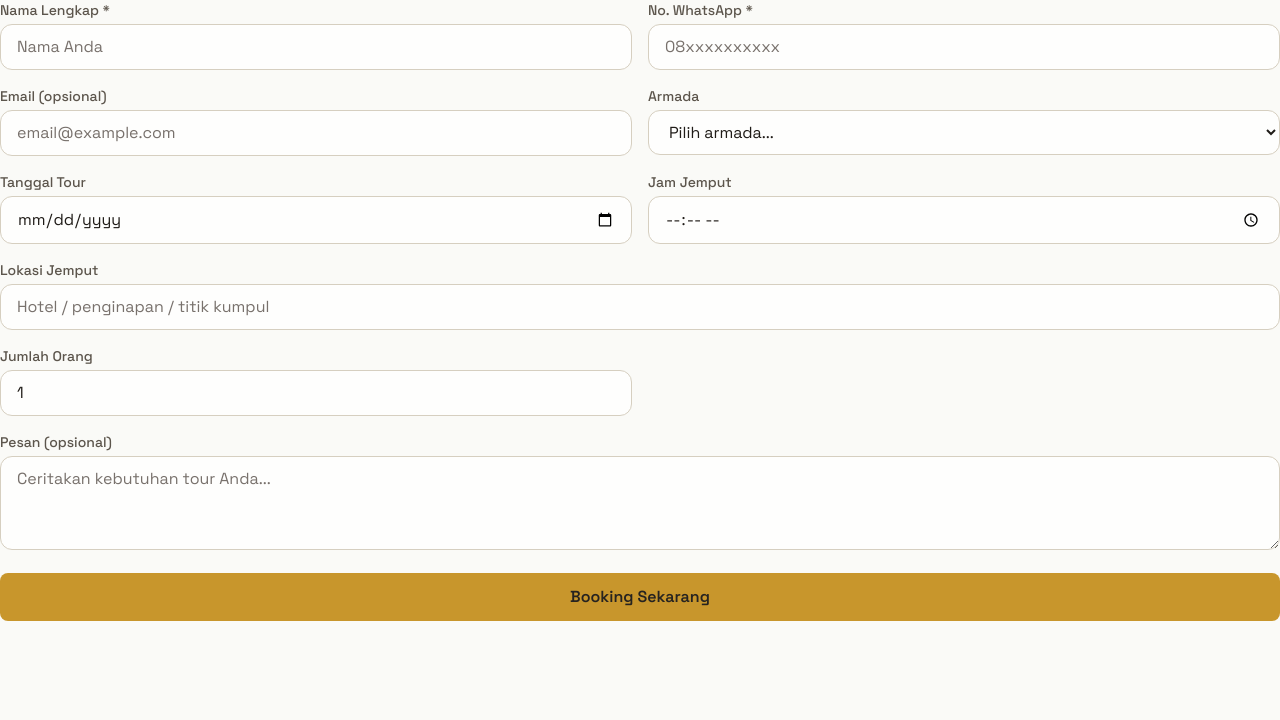
BookingForm (frontend) › submit sukses → menampilkan kode booking + tombol WA
This screenshot has width=1280, height=720.
Type "Budi" into the field with placeholder "Nama Anda". click: {"x": 316, "y": 47}
box: [0,24,632,70]
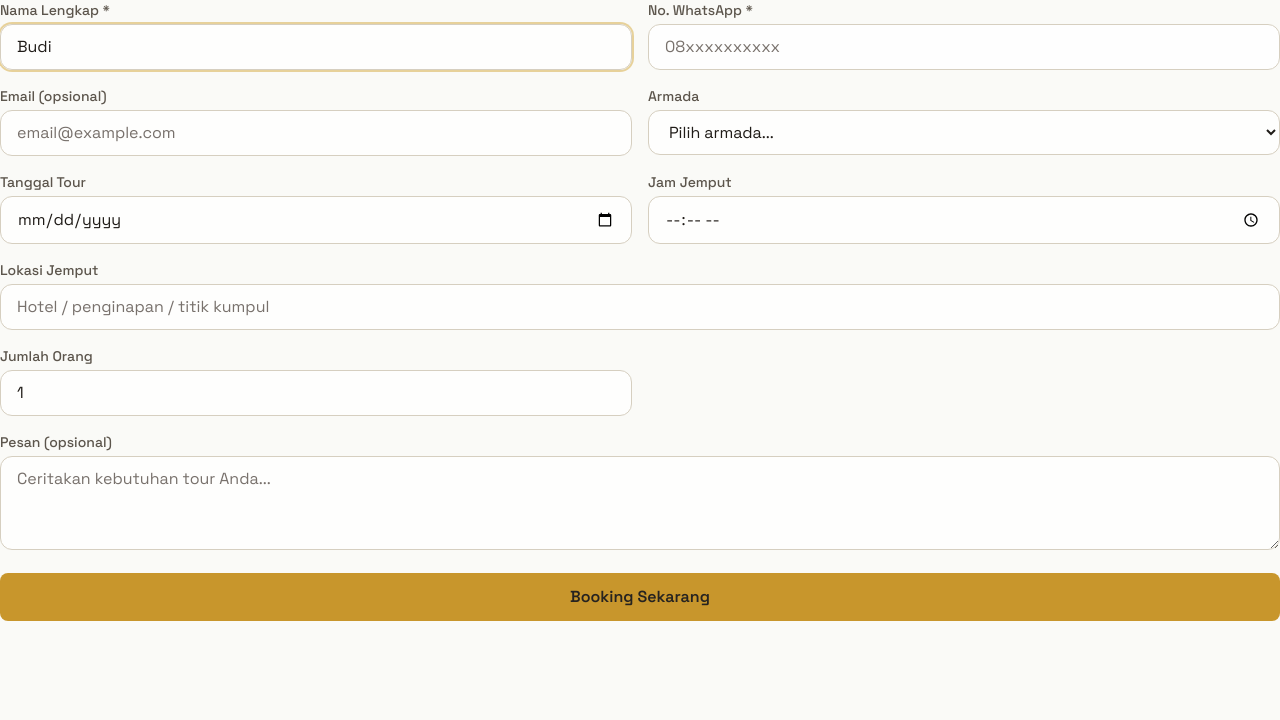
Type "08123456789" into the field with placeholder "08xxxxxxxxxx". click: {"x": 964, "y": 47}
box: [648,24,1279,70]
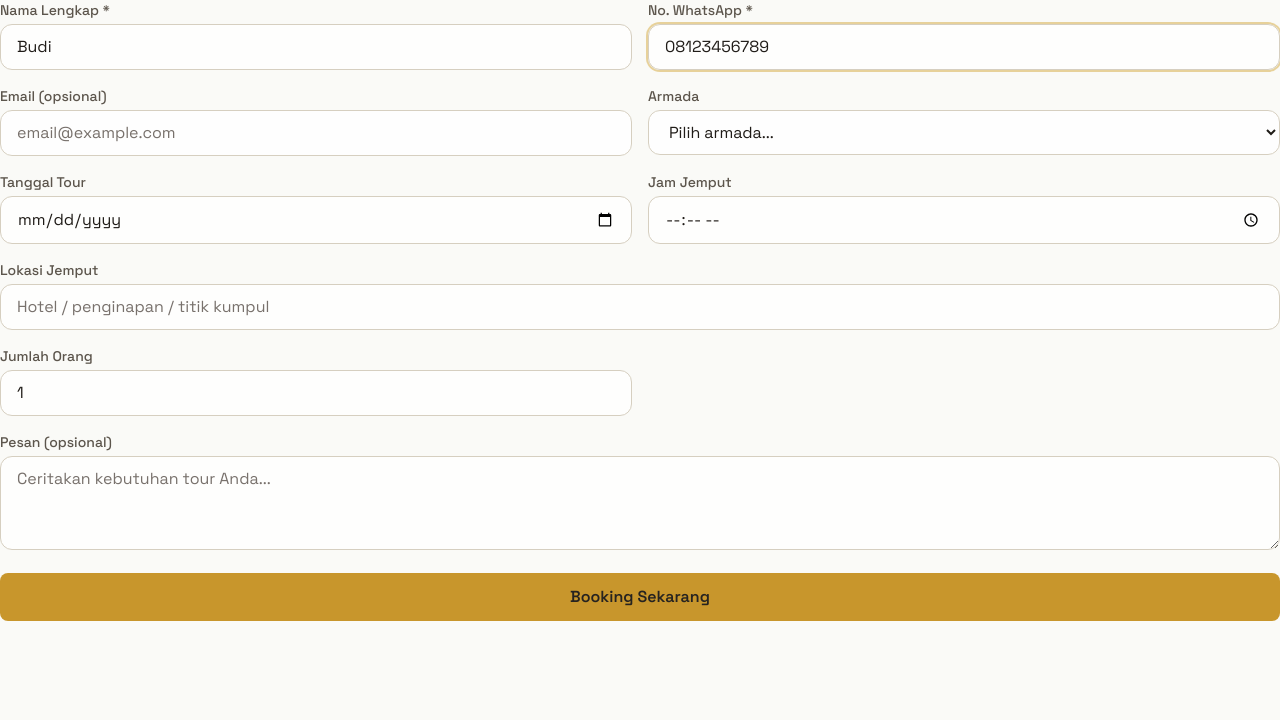
Click the button "Booking Sekarang". click: {"x": 640, "y": 597}
box: [0,573,1279,621]
(page scrolled)
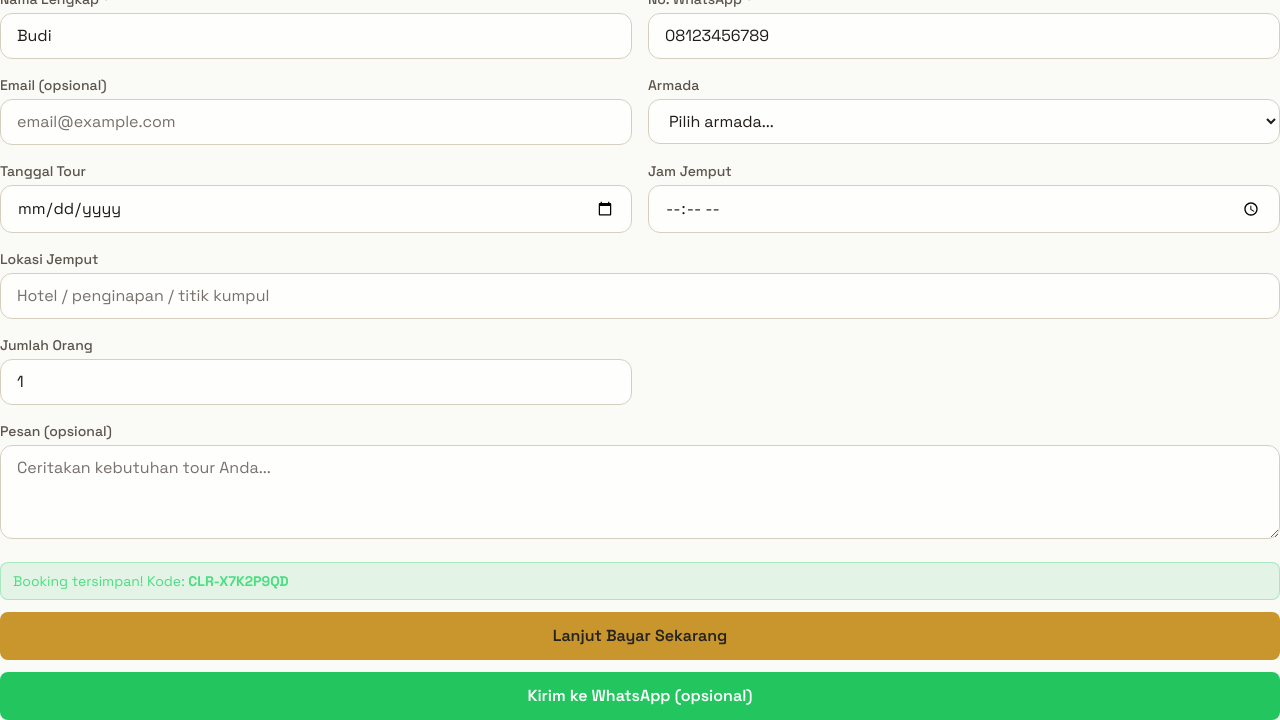
Expected: the text "CLR-X7K2P9QD" is shown, [188,572,289,590]
Expected: the button "Kirim ke WhatsApp (opsional)" is shown, [0,672,1279,719]
